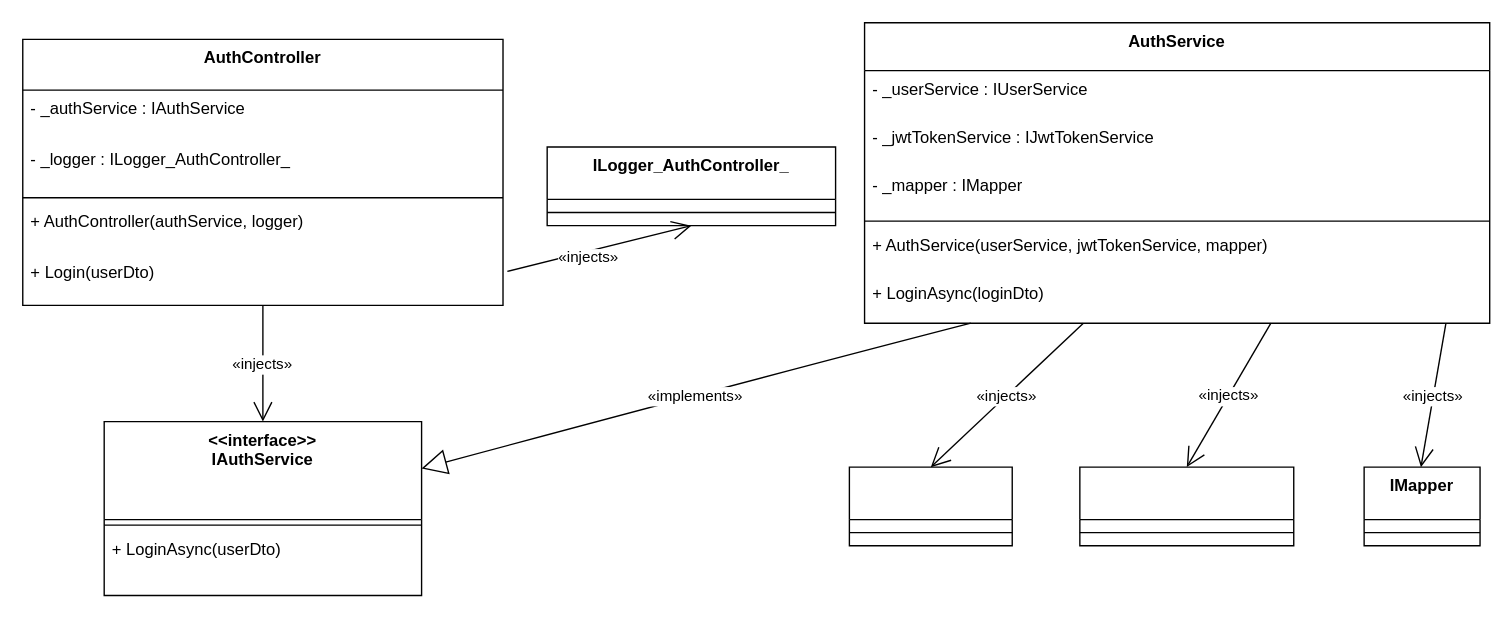
The diagram is 1512 pixels wide and 618 high, and some of its shapes have lost their labels. Here are the shapes that lost their labels. From the top down, the box of each, then its label:
(848, 466, 1012, 546): IUserService
(1078, 466, 1294, 546): IJwtTokenService
